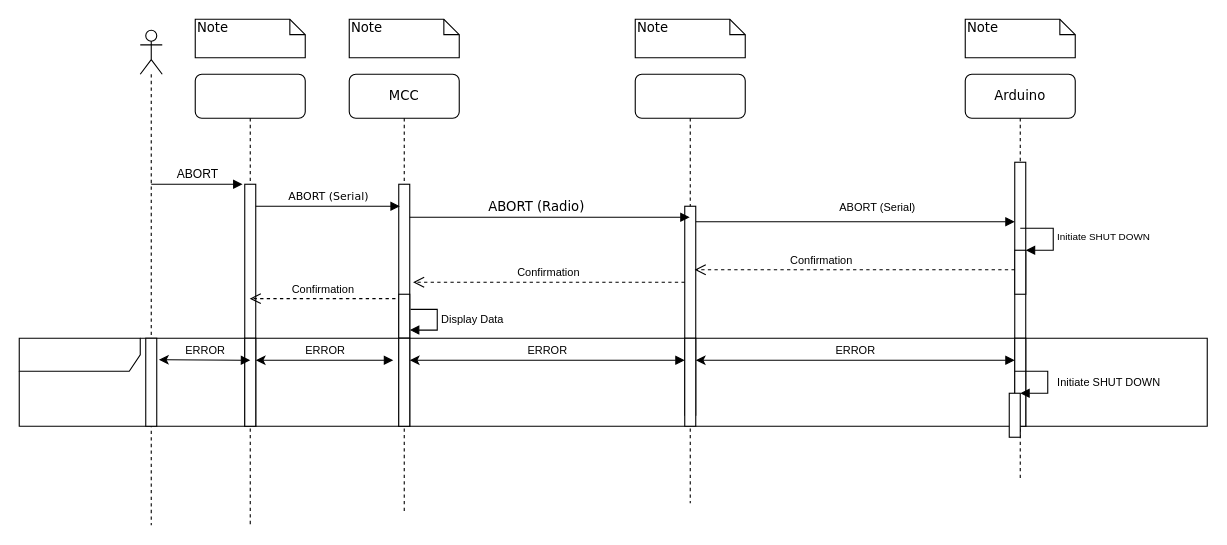
Image size: 1227x545. Some labels were removed from this diagram. The box of each missing label's shape, as (x1, y1, x2, y2) in pixels:
Control Box: (194, 73, 305, 525)
If: Confirmation Fails: (18, 337, 1207, 426)
R-PI: (634, 73, 745, 503)
